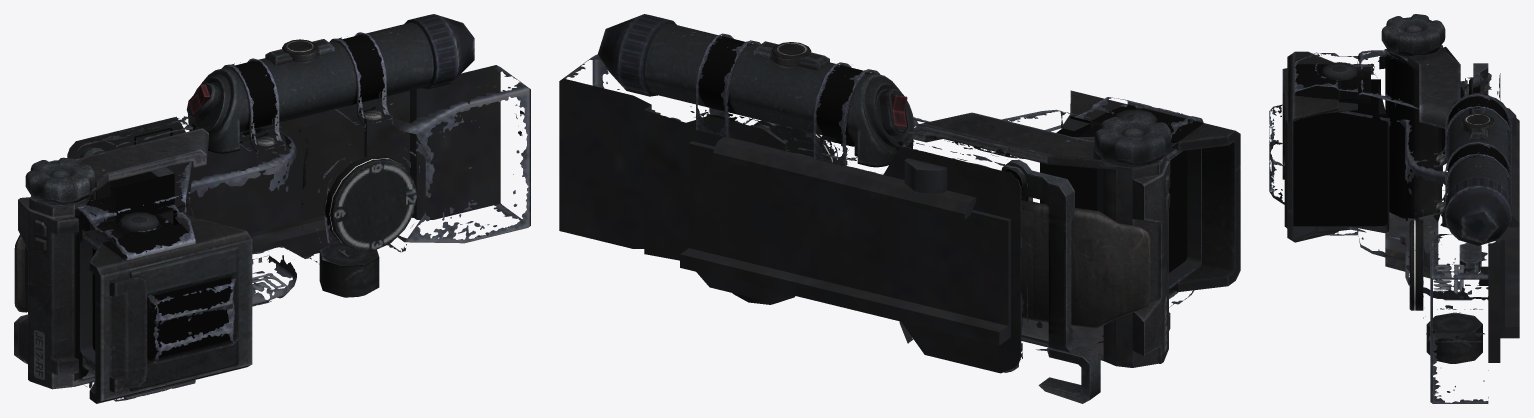
Rendered from t6_attach_optic_rangefinder_view_LOD0.obj.
The picture shows the model from 3 angles, left to right: view 1: azimuth 30°, elevation 25°; view 2: azimuth 150°, elevation 25°; view 3: azimuth 270°, elevation 25°; orthographic projection. The views are drawn at different scales.
Parts seen in each view (by area): view 1: mtl_t6_attach_optic_rangefinder_camo1, mtl_t6_attach_optic_rangefinder_camo2, mtl_t6_attach_optic_rangefinder; view 2: mtl_t6_attach_optic_rangefinder_camo1, mtl_t6_attach_optic_rangefinder_camo2, mtl_t6_attach_optic_rangefinder_lens, mtl_t6_attach_optic_rangefinder, mtl_t6_attach_optic_rangefinder_reticle; view 3: mtl_t6_attach_optic_rangefinder_camo1, mtl_t6_attach_optic_rangefinder_camo2, mtl_t6_attach_optic_rangefinder_reticle, mtl_t6_attach_optic_rangefinder, mtl_t6_attach_optic_rangefinder_lens.
Boxes of the visible parts, x1,y1,x2,y2 form: mtl_t6_attach_optic_rangefinder_camo1: (14,22,530,403); mtl_t6_attach_optic_rangefinder_camo2: (14,14,474,392); mtl_t6_attach_optic_rangefinder: (80,203,188,363); mtl_t6_attach_optic_rangefinder_camo1: (559,23,1240,403); mtl_t6_attach_optic_rangefinder_camo2: (598,14,1170,372); mtl_t6_attach_optic_rangefinder_lens: (1169,150,1187,272); mtl_t6_attach_optic_rangefinder: (1169,148,1200,286); mtl_t6_attach_optic_rangefinder_reticle: (1040,124,1096,210); mtl_t6_attach_optic_rangefinder_camo1: (1284,14,1519,403); mtl_t6_attach_optic_rangefinder_camo2: (1269,45,1511,363); mtl_t6_attach_optic_rangefinder_reticle: (1293,114,1387,226); mtl_t6_attach_optic_rangefinder: (1349,85,1389,233); mtl_t6_attach_optic_rangefinder_lens: (1322,79,1380,114).
Size of the model in its own units: 10.57 by 4.96 by 4.92.
